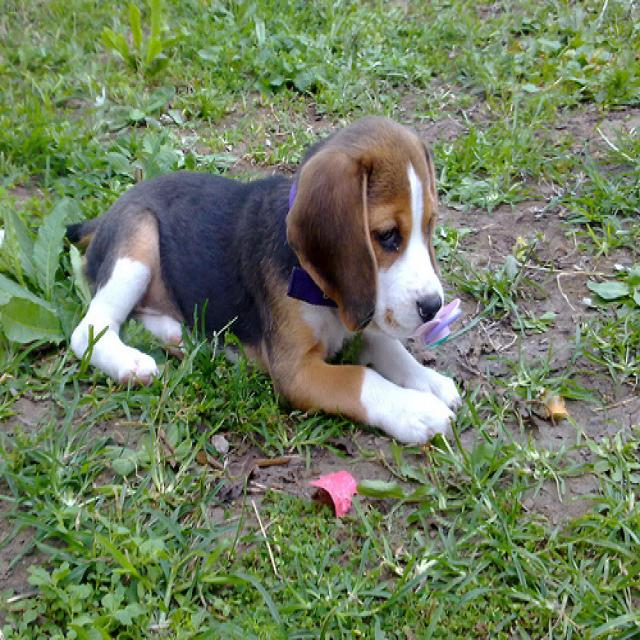dog-beagle: (52, 108, 465, 454)
